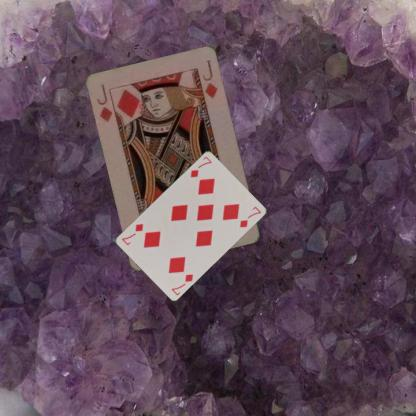7d: (188, 153, 213, 179), (169, 271, 194, 296)
Jd: (94, 82, 115, 124)
